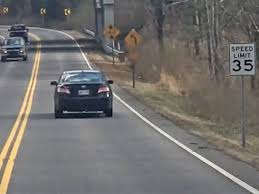curveLeft: (124, 27, 142, 47)
speedLimit35: (228, 41, 257, 76)
